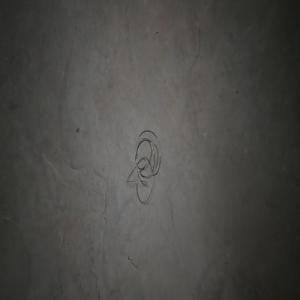Wire: (125, 130, 160, 202)
